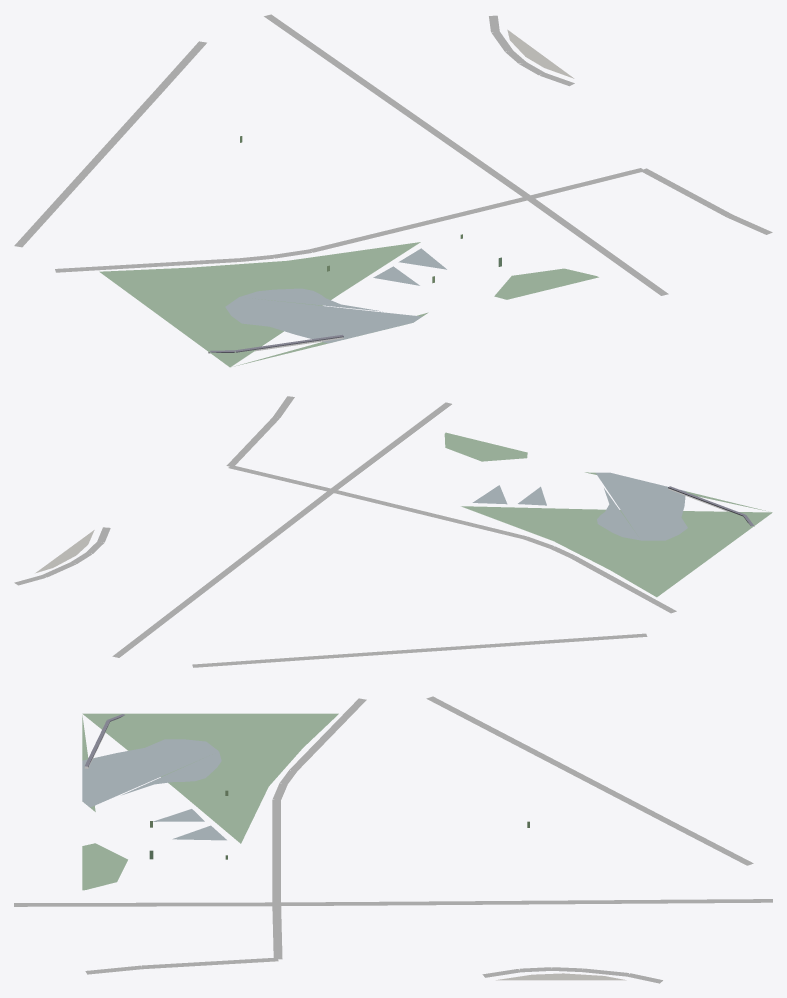
3 renders of one model, top to bottom at view 1: azimuth 30°, elevation 25°; view 2: azimuth 150°, elevation 25°; view 3: azimuth 270°, elevation 25°, orthographic. The views are drawn at different scales.
Bounding box in the file's own units: 540 × 9.02 × 604.
